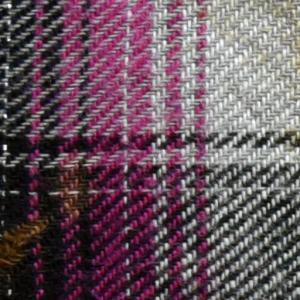Oil Stain: (1, 157, 98, 277)
Stain: (201, 1, 300, 153)
